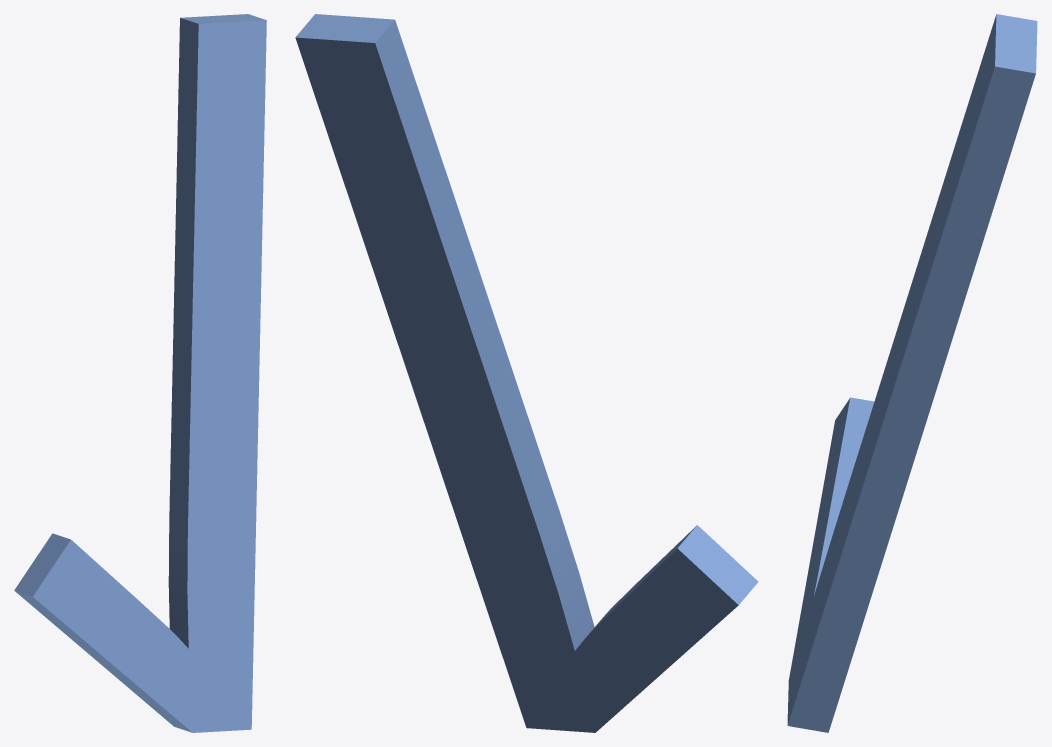
File: New_Number_1.gltf
3 renders of one model, left to right at view 1: azimuth 30°, elevation 25°; view 2: azimuth 150°, elevation 25°; view 3: azimuth 270°, elevation 25°, orthographic. The views are drawn at different scales.
Visible parts, largest first — view 1: Part 487; view 2: Part 487; view 3: Part 487.
Boxes of the visible parts, x1,y1,x2,y2 form: Part 487: (14,14,266,732); Part 487: (295,14,758,732); Part 487: (787,14,1037,732).
Bounding box in the file's own units: 0.00247 × 0.00495 × 0.00152.
